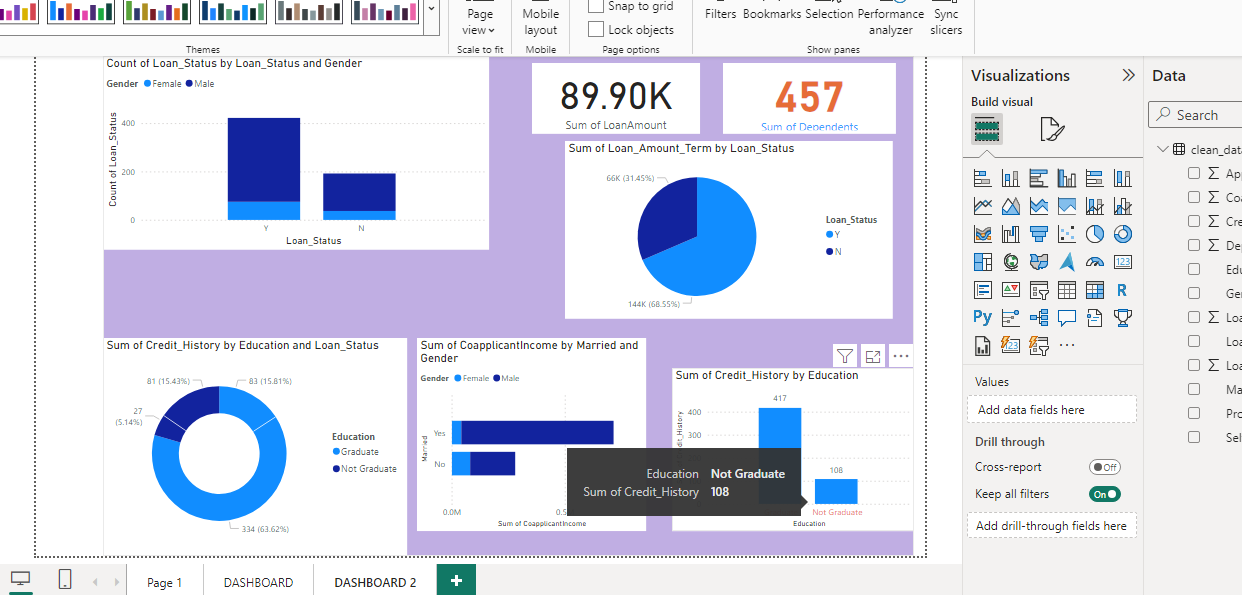

The dashboard page shown, as its layout file describes it:
{"tool":"powerbi","page":{"name":"DASHBOARD 2","canvas":[1280,720],"ordinal":2},"visuals":[{"type":"columnChart","fields":{"Category":["clean_data (1).Loan_Status"],"Series":["clean_data (1).Gender"],"Y":["CountNonNull(clean_data (1).Loan_Status)"]},"box":[96.5,0,555.8,279.4],"z":0,"group":"g1"},{"type":"group","id":"g1","title":"Group 1","box":[96.5,0,1167.9,720],"z":0},{"type":"donutChart","fields":{"Category":["clean_data (1).Education"],"Series":["clean_data (1).Loan_Status"],"Y":["Sum(clean_data (1).Credit_History)"]},"box":[96.5,406.1,437.8,313.9],"z":1000,"group":"g1"},{"type":"barChart","fields":{"Category":["clean_data (1).Married"],"Y":["Sum(clean_data (1).CoapplicantIncome)"],"Series":["clean_data (1).Gender"]},"box":[548.6,406.1,329.8,277.9],"z":1000},{"type":"pieChart","fields":{"Y":["Sum(clean_data (1).Loan_Amount_Term)"],"Category":["clean_data (1).Loan_Status"]},"box":[761.1,122.4,472.3,256.3],"z":2000,"group":"g1"},{"type":"card","fields":{"Values":["Sum(clean_data (1).LoanAmount)"]},"box":[713.6,10.1,241.9,102.2],"z":3000,"group":"g1"},{"type":"card","fields":{"Values":["Sum(clean_data (1).Dependents)"]},"box":[988.6,10.1,249.1,102.2],"z":4000,"group":"g1"},{"type":"clusteredColumnChart","fields":{"Y":["Sum(clean_data (1).Credit_History)"],"Category":["clean_data (1).Education"]},"box":[915.9,449.3,348.5,234.7],"z":5000,"group":"g1"}]}

Visuals, with their boxes on the page's 1280x720 design canvas (x1, y1, x2, y2). These are canvas units, not pixel positions in the 1242x595 screenshot, which may show the page scaled, cropped or inside an application window:
columnChart - clean_data (1).Loan_Status x clean_data (1).Gender: [left=96, top=0, right=652, bottom=279]
"Group 1" group: [left=96, top=0, right=1264, bottom=720]
donutChart - clean_data (1).Education x clean_data (1).Loan_Status: [left=96, top=406, right=534, bottom=720]
barChart - clean_data (1).Married x Sum(clean_data (1).CoapplicantIncome): [left=549, top=406, right=878, bottom=684]
pieChart - Sum(clean_data (1).Loan_Amount_Term) x clean_data (1).Loan_Status: [left=761, top=122, right=1233, bottom=379]
card - Sum(clean_data (1).LoanAmount): [left=714, top=10, right=956, bottom=112]
card - Sum(clean_data (1).Dependents): [left=989, top=10, right=1238, bottom=112]
clusteredColumnChart - Sum(clean_data (1).Credit_History) x clean_data (1).Education: [left=916, top=449, right=1264, bottom=684]
